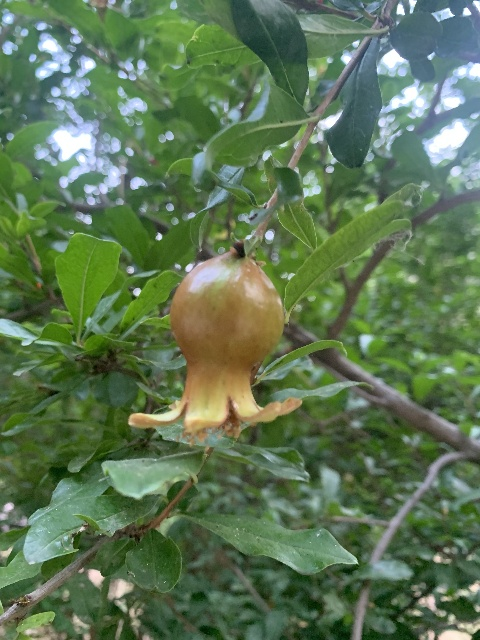early-fruit: (126, 252, 302, 445)
